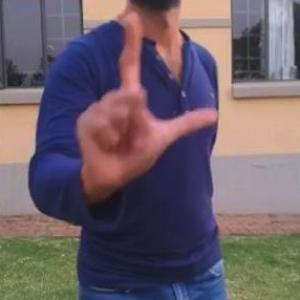land_hand: (72, 3, 220, 199)
